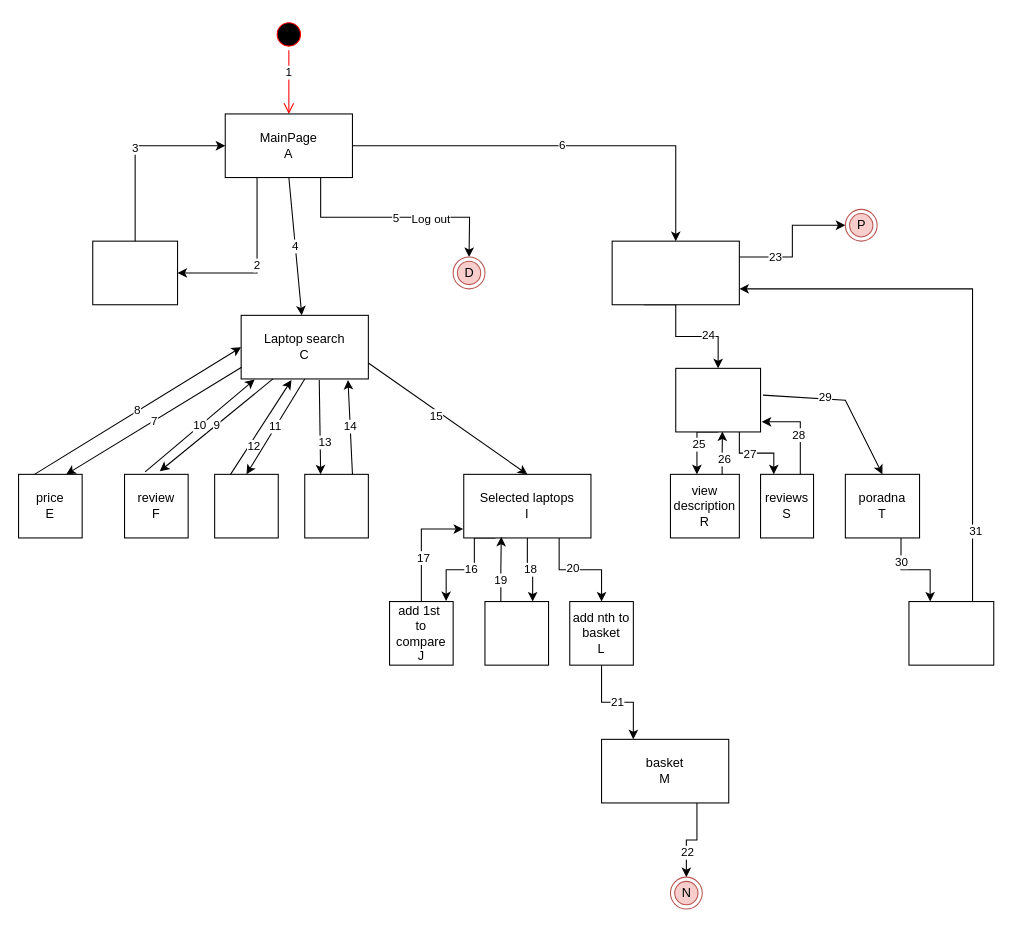
This 1012x927 diagram has some shape labels left out. Each missing label, with the centre of its shape:
"add 2nd to compare K" goes at pixel 516 632.
"available G" goes at pixel 246 505.
"Car search O" goes at pixel 675 272.
"cpu H" goes at pixel 336 505.
"how to choose a car (article) U" goes at pixel 951 632.
"Login B" goes at pixel 135 272.
"Model Q" goes at pixel 718 399.
